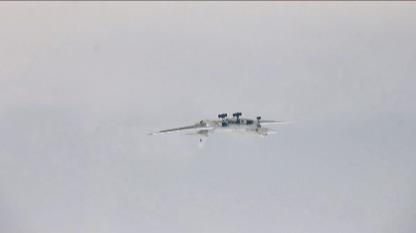Su34: (147, 111, 297, 148)
